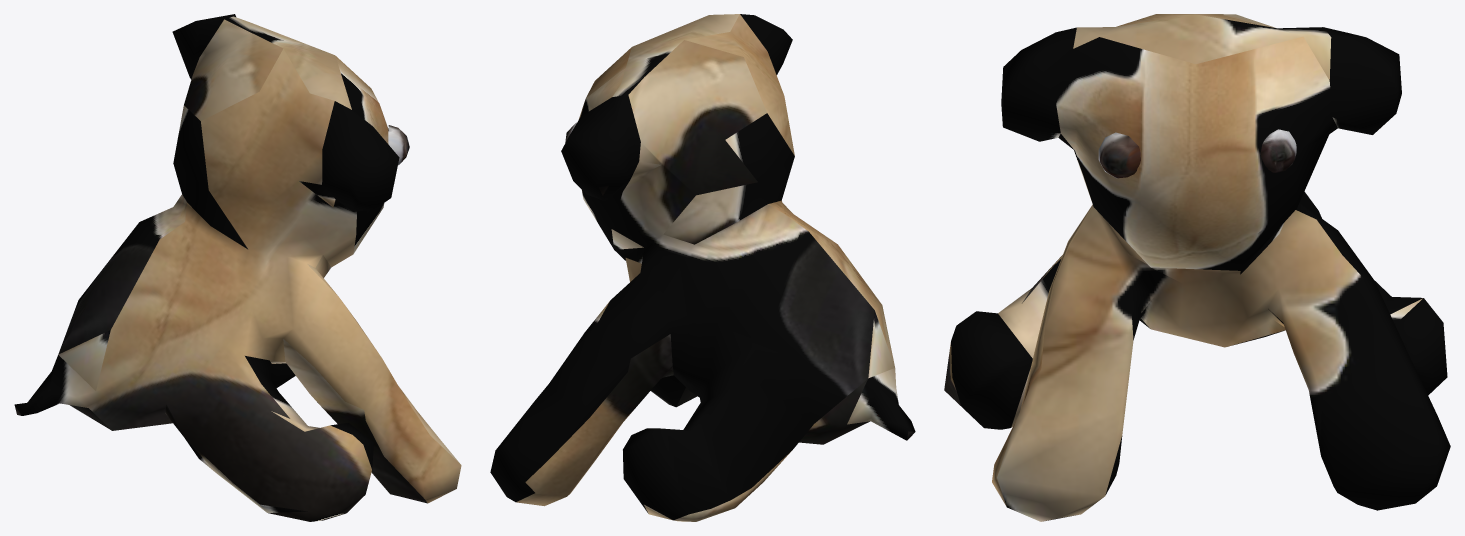
The model's file is WorldItem_PlushiePugAZ.fbx.
3 views of the same model, side by side, from view 1: azimuth 30°, elevation 25°; view 2: azimuth 150°, elevation 25°; view 3: azimuth 270°, elevation 25° (orthographic). The views are drawn at different scales.
Visible parts, largest first — view 1: Icosphere; view 2: Icosphere; view 3: Icosphere.
Boxes of the visible parts, box(x1,y1,x2,y2) form: Icosphere: box(14, 14, 461, 521); Icosphere: box(490, 14, 915, 521); Icosphere: box(944, 14, 1450, 521).
Size of the model in its own units: 344 by 405 by 400.
